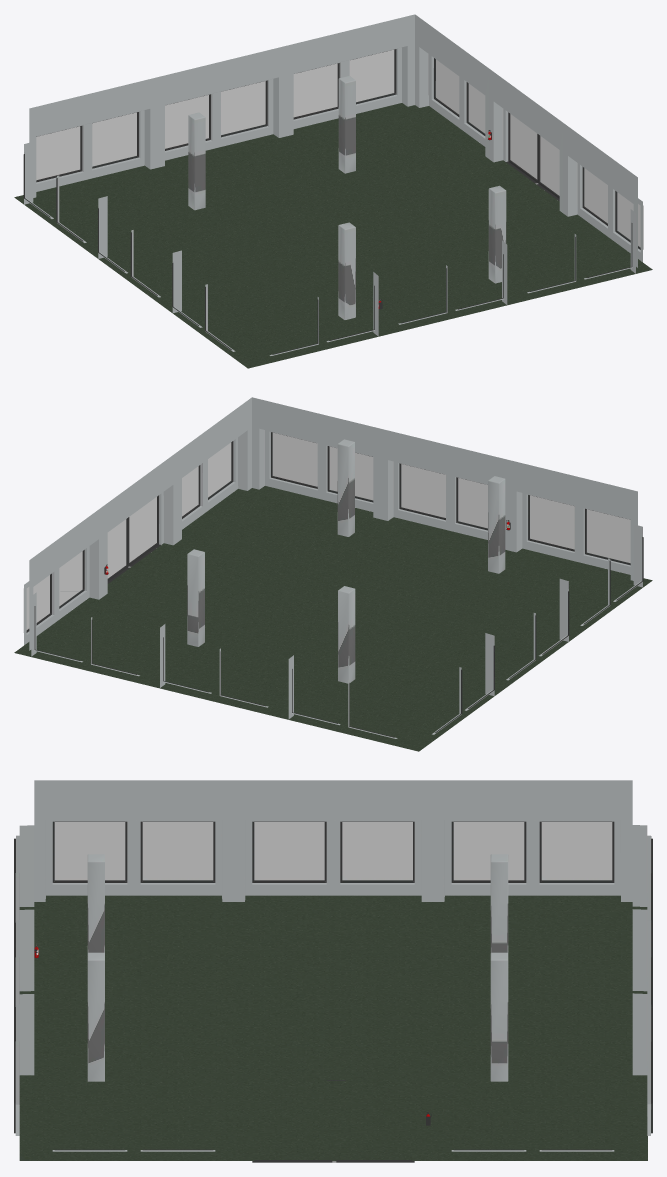
The model's file is office.glb.
3 renders of one model, top to bottom at view 1: azimuth 30°, elevation 25°; view 2: azimuth 150°, elevation 25°; view 3: azimuth 270°, elevation 25°, orthographic. The views are drawn at different scales.
Visible parts, largest first — view 1: Plane.001, wall-n, wall-e, wall-w, Cube.005, wall-s, Cube.011, Cube.008, Cube.009, Cube.010; view 2: Plane.001, wall-s, wall-e, wall-w, Cube.005, wall-n, Cube.008, Cube.009, Cube.010, Cube.011; view 3: Plane.001, wall-w, wall-n, wall-s, Cube.009, Cube.010, Cube.011, Cube.008, wall-e.
Boxes of the visible parts, x1,y1,x2,y2 form: Plane.001: (14, 103, 652, 368); wall-n: (29, 14, 414, 197); wall-e: (415, 14, 643, 267); wall-w: (23, 142, 235, 351); Cube.005: (508, 112, 559, 198); wall-s: (269, 209, 635, 355); Cube.011: (188, 112, 205, 210); Cube.008: (338, 222, 355, 319); Cube.009: (338, 76, 355, 173); Cube.010: (488, 185, 506, 283); Plane.001: (14, 486, 652, 751); wall-s: (252, 397, 637, 580); wall-e: (23, 397, 251, 650); wall-w: (432, 524, 643, 734); Cube.005: (107, 495, 158, 581); wall-n: (31, 591, 397, 738); Cube.008: (488, 476, 505, 573); Cube.009: (187, 549, 204, 646); Cube.010: (337, 439, 354, 536); Cube.011: (338, 586, 355, 683); Plane.001: (19, 895, 647, 1160); wall-w: (34, 780, 632, 901); wall-n: (632, 825, 652, 1135); wall-s: (14, 825, 34, 1135); Cube.009: (490, 952, 508, 1081); Cube.010: (87, 952, 104, 1081); Cube.011: (490, 854, 508, 952); Cube.008: (87, 854, 104, 952); wall-e: (52, 1149, 614, 1162).
Size of the model in its own units: 21.36 by 4.62 by 21.36.
2 materials, 2 textured.
